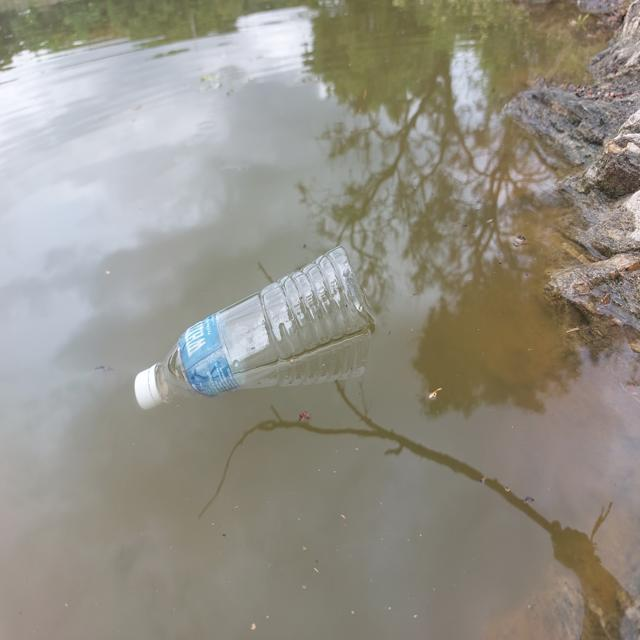waterbottle: (134, 250, 358, 406)
